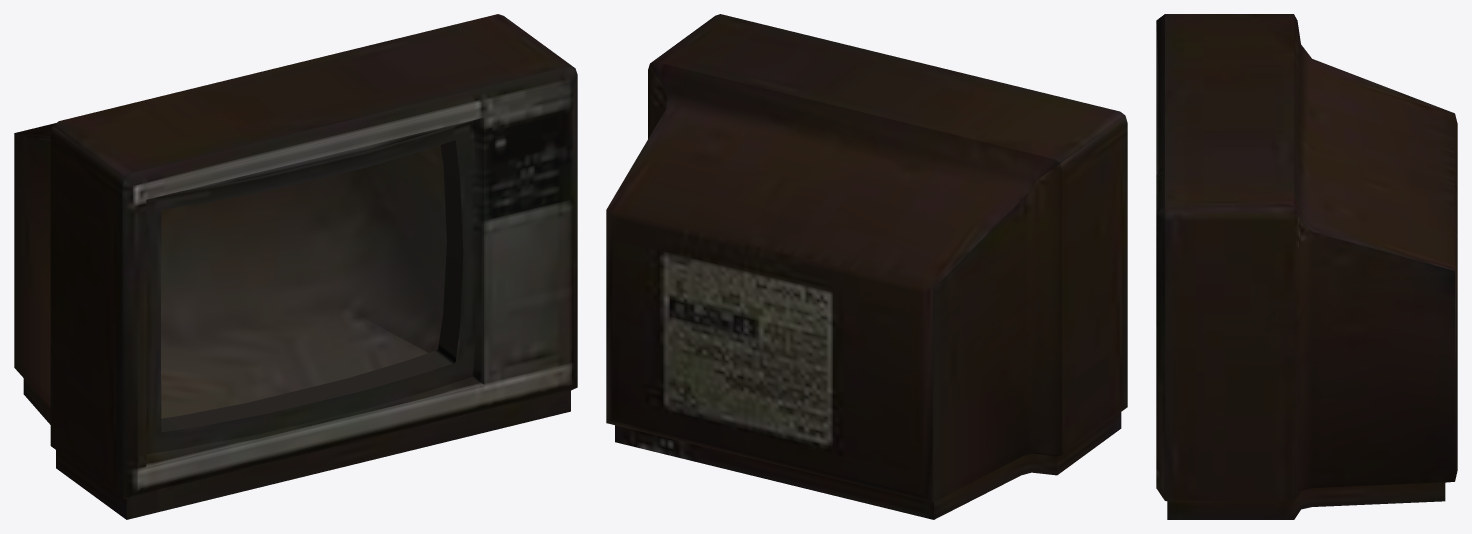
Rendered from tv_monitor01.glb.
3 views of the same model, side by side, from view 1: azimuth 30°, elevation 25°; view 2: azimuth 150°, elevation 25°; view 3: azimuth 270°, elevation 25° (orthographic). The views are drawn at different scales.
Parts seen in each view (by area): view 1: 0_tv_monitor01; view 2: 0_tv_monitor01; view 3: 0_tv_monitor01.
Boxes of the visible parts, left/top/right/bottom form: 0_tv_monitor01: left=14, top=14, right=577, bottom=519; 0_tv_monitor01: left=606, top=14, right=1127, bottom=519; 0_tv_monitor01: left=1156, top=14, right=1457, bottom=519.
Bounding box in the file's own units: 0.5588 × 0.4064 × 0.3556.
Materials: 1 (1 with a texture image).
